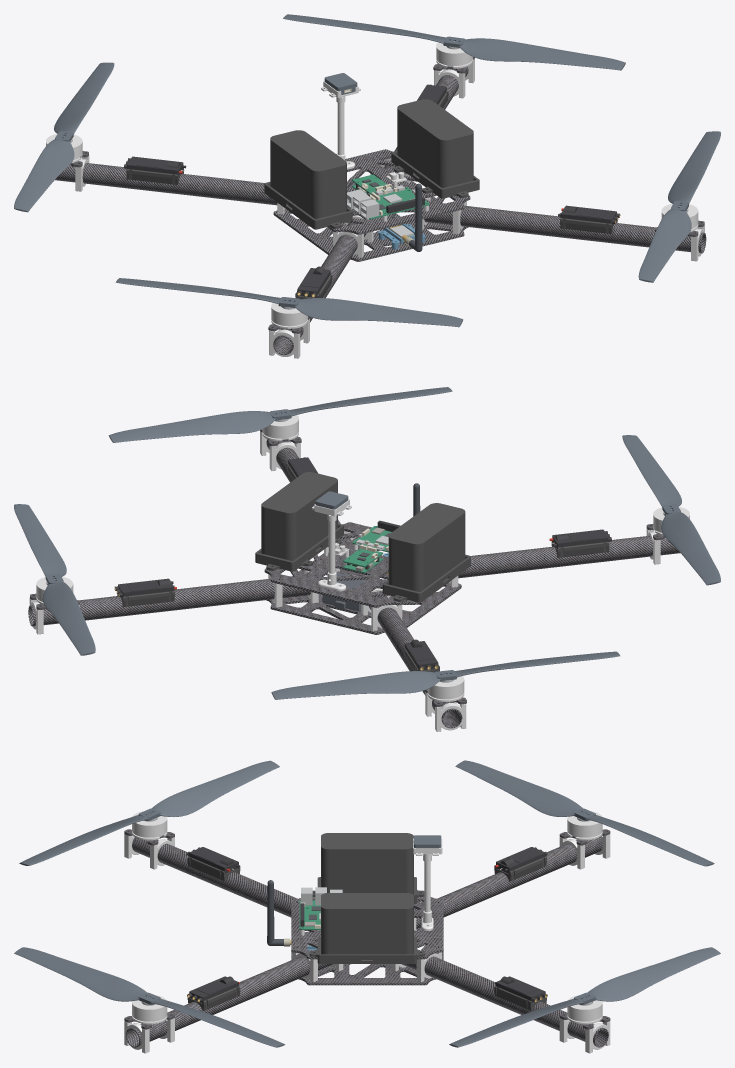
File: project-echo.glb
3 renders of one model, top to bottom at view 1: azimuth 30°, elevation 25°; view 2: azimuth 150°, elevation 25°; view 3: azimuth 270°, elevation 25°, orthographic. The views are drawn at different scales.
Visible parts, largest first — view 1: six_station_smooth_reference_propeller_2.step-1 (×2), six_station_smooth_reference_propeller_1.step-2 (×2), 5s2p 18v Samsung 50s 10000mAh Li-Ion Battery Pack-2, 5s2p 18v Samsung 50s 10000mAh Li-Ion Battery Pack-1, CarbonTube-1, CarbonTube-2, TopCenterBracket-1, BottomCenterBracket-2, shrink_capacitor_and_label_envelope.step-1 (×3), CarbonTube-3, BatteryTray-2, BatteryTray-1 (+5 smaller); view 2: six_station_smooth_reference_propeller_1.step-2 (×2), six_station_smooth_reference_propeller_2.step-1 (×2), 5s2p 18v Samsung 50s 10000mAh Li-Ion Battery Pack-1, 5s2p 18v Samsung 50s 10000mAh Li-Ion Battery Pack-2, CarbonTube-4, CarbonTube-3, TopCenterBracket-1, BottomCenterBracket-2, shrink_capacitor_and_label_envelope.step-1 (×3), CarbonTube-2, BatteryTray-1, BatteryTray-2 (+5 smaller); view 3: six_station_smooth_reference_propeller_2.step-1 (×2), six_station_smooth_reference_propeller_1.step-2 (×2), 5s2p 18v Samsung 50s 10000mAh Li-Ion Battery Pack-2, 5s2p 18v Samsung 50s 10000mAh Li-Ion Battery Pack-1, CarbonTube-4, CarbonTube-1, CarbonTube-2, shrink_capacitor_and_label_envelope.step-1 (×4), CarbonTube-3, TopCenterBracket-1, BottomCenterBracket-2, BatteryTray-2 (+6 smaller).
Boxes of the visible parts, bbox=[...] form: six_station_smooth_reference_propeller_2.step-1 (×2): bbox=[115, 14, 625, 327]; six_station_smooth_reference_propeller_1.step-2 (×2): bbox=[14, 62, 720, 282]; 5s2p 18v Samsung 50s 10000mAh Li-Ion Battery Pack-2: bbox=[397, 99, 473, 188]; 5s2p 18v Samsung 50s 10000mAh Li-Ion Battery Pack-1: bbox=[270, 130, 346, 219]; CarbonTube-1: bbox=[424, 202, 706, 253]; CarbonTube-2: bbox=[55, 163, 277, 205]; TopCenterBracket-1: bbox=[327, 149, 470, 234]; BottomCenterBracket-2: bbox=[273, 181, 468, 261]; shrink_capacitor_and_label_envelope.step-1 (×3): bbox=[127, 156, 616, 297]; CarbonTube-3: bbox=[273, 223, 366, 355]; BatteryTray-2: bbox=[391, 151, 479, 198]; BatteryTray-1: bbox=[264, 182, 352, 229]; six_station_smooth_reference_propeller_1.step-2 (×2): bbox=[108, 387, 620, 699]; six_station_smooth_reference_propeller_2.step-1 (×2): bbox=[14, 435, 720, 655]; 5s2p 18v Samsung 50s 10000mAh Li-Ion Battery Pack-1: bbox=[388, 503, 465, 591]; 5s2p 18v Samsung 50s 10000mAh Li-Ion Battery Pack-2: bbox=[261, 472, 337, 561]; CarbonTube-4: bbox=[28, 574, 310, 626]; CarbonTube-3: bbox=[458, 535, 680, 578]; TopCenterBracket-1: bbox=[264, 522, 407, 607]; BottomCenterBracket-2: bbox=[266, 553, 461, 634]; shrink_capacitor_and_label_envelope.step-1 (×3): bbox=[118, 529, 608, 670]; CarbonTube-2: bbox=[368, 596, 462, 728]; BatteryTray-1: bbox=[382, 554, 470, 602]; BatteryTray-2: bbox=[255, 523, 343, 571]; six_station_smooth_reference_propeller_2.step-1 (×2): bbox=[19, 760, 720, 1047]; six_station_smooth_reference_propeller_1.step-2 (×2): bbox=[14, 760, 714, 1047]; 5s2p 18v Samsung 50s 10000mAh Li-Ion Battery Pack-2: bbox=[321, 893, 413, 959]; 5s2p 18v Samsung 50s 10000mAh Li-Ion Battery Pack-1: bbox=[321, 833, 413, 894]; CarbonTube-4: bbox=[401, 949, 608, 1047]; CarbonTube-1: bbox=[126, 949, 332, 1047]; CarbonTube-2: bbox=[414, 837, 602, 928]; shrink_capacitor_and_label_envelope.step-1 (×4): bbox=[189, 847, 545, 1003]; CarbonTube-3: bbox=[132, 837, 297, 917]; TopCenterBracket-1: bbox=[291, 897, 443, 959]; BottomCenterBracket-2: bbox=[291, 927, 443, 985]; BatteryTray-2: bbox=[309, 937, 424, 963].
Bounding box in the file's own units: 0.8466 × 0.1623 × 0.8815.
22 materials, 1 textured.
